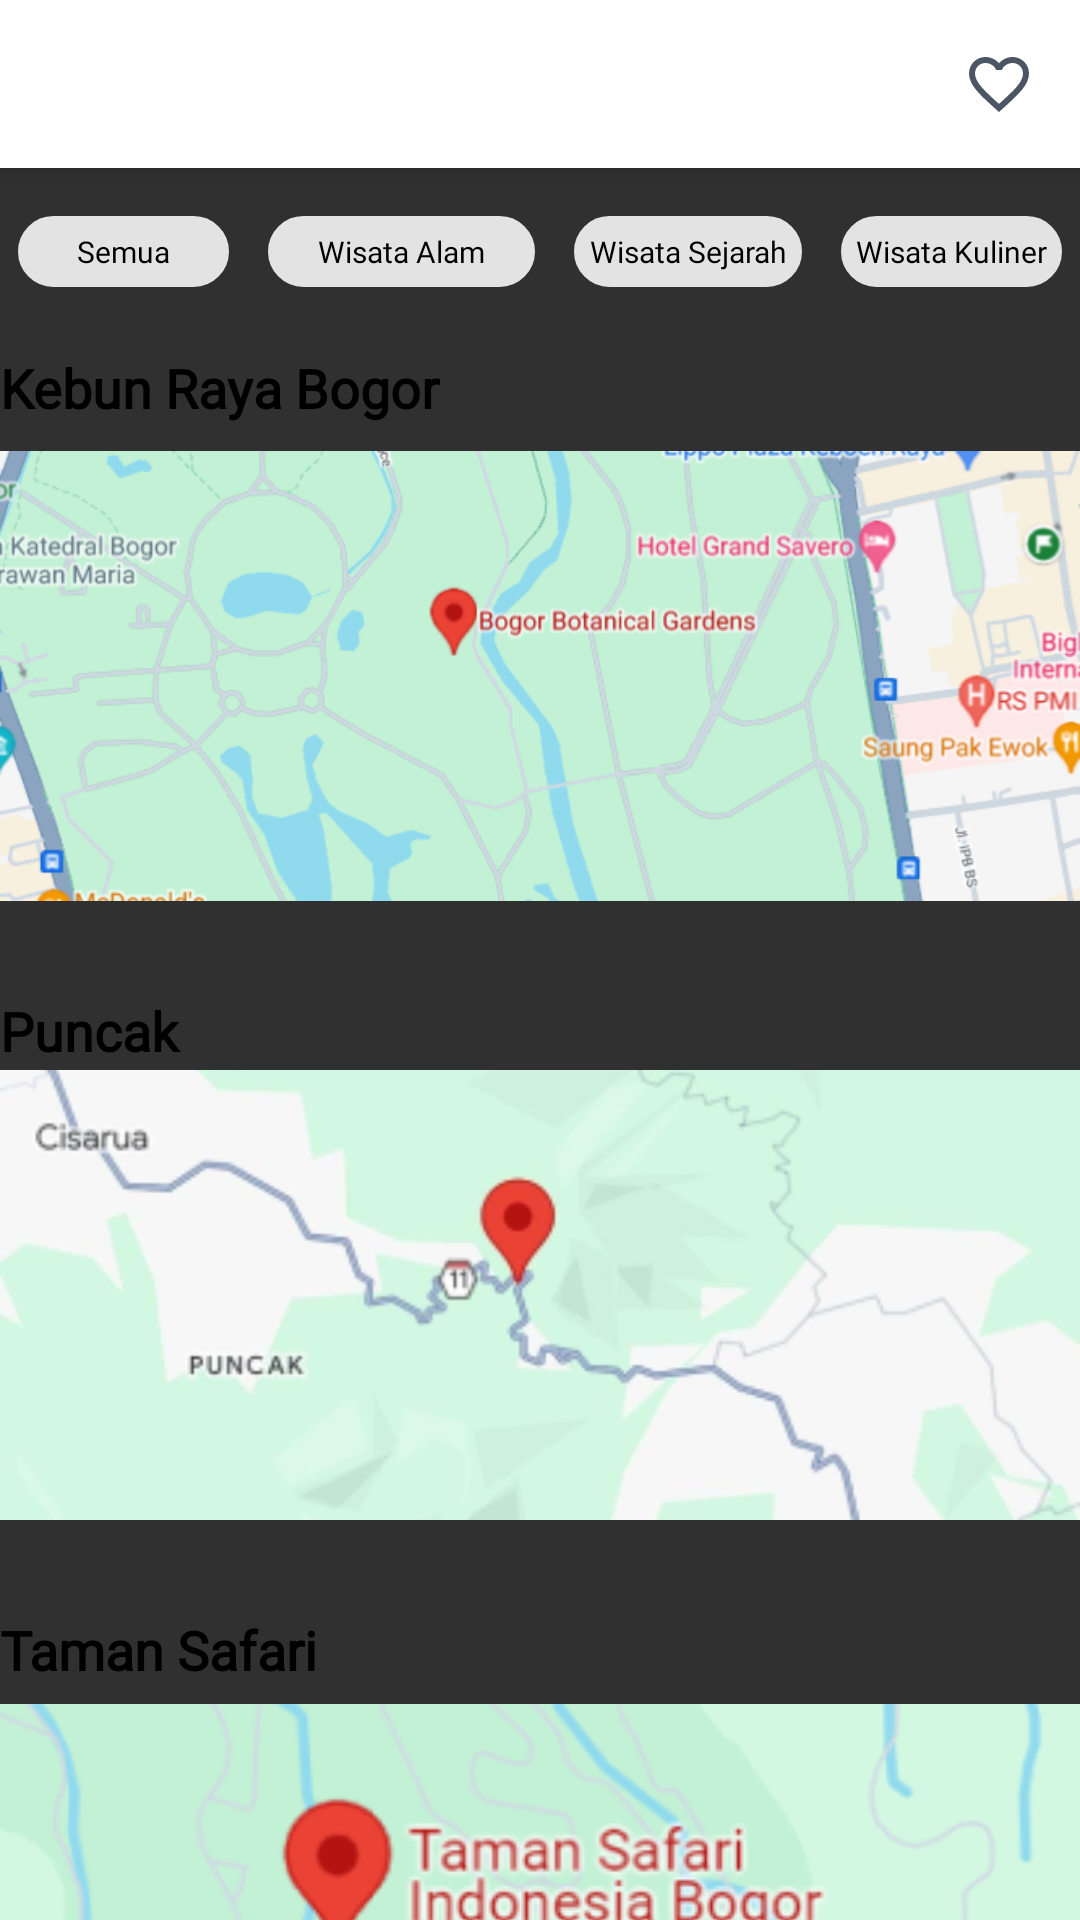

Icon bounding boxes for this 1080*1920 phone screenshot, format [x1, y1, x2, y2]:
heart: [969, 57, 1029, 112]
